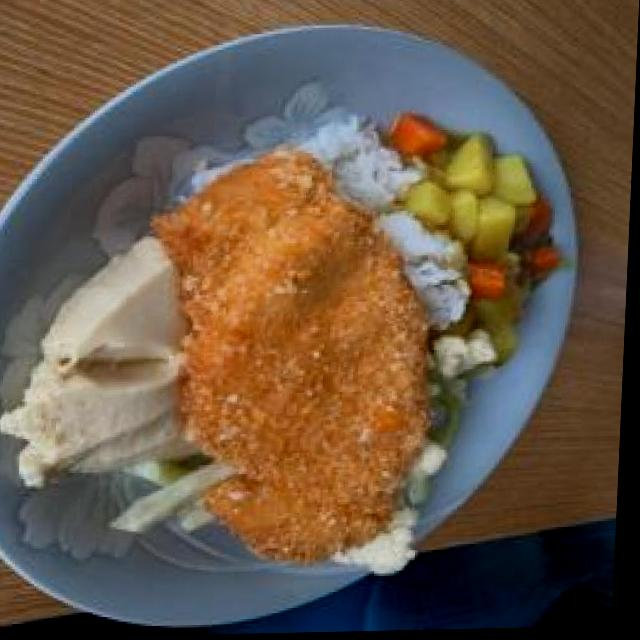curry: (385, 110, 574, 378)
fried_chicken: (162, 140, 445, 558)
rice: (183, 120, 476, 340)
